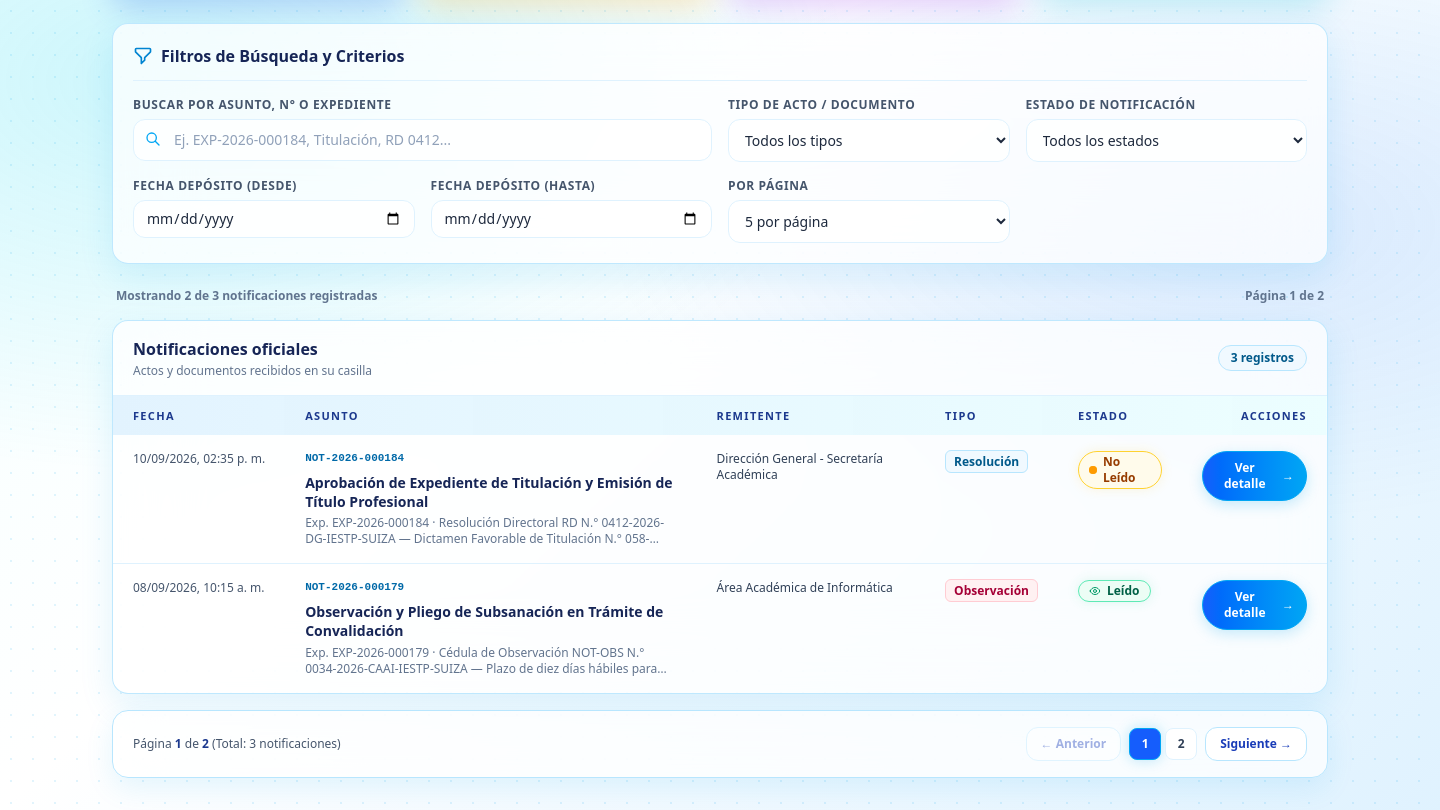
Suite de Pruebas de Casilla Electrónica Ciudadana y Acuse Legal › e) La paginación avanza de página y vuelve a consultar el servicio
(page scrolled)
Expected: the text "Aprobación de Expediente de Titulación" is shown, [305, 473, 673, 511]
Click the button "Siguiente →" at {"x": 1256, "y": 744}, box [1205, 727, 1307, 761]
(page scrolled)
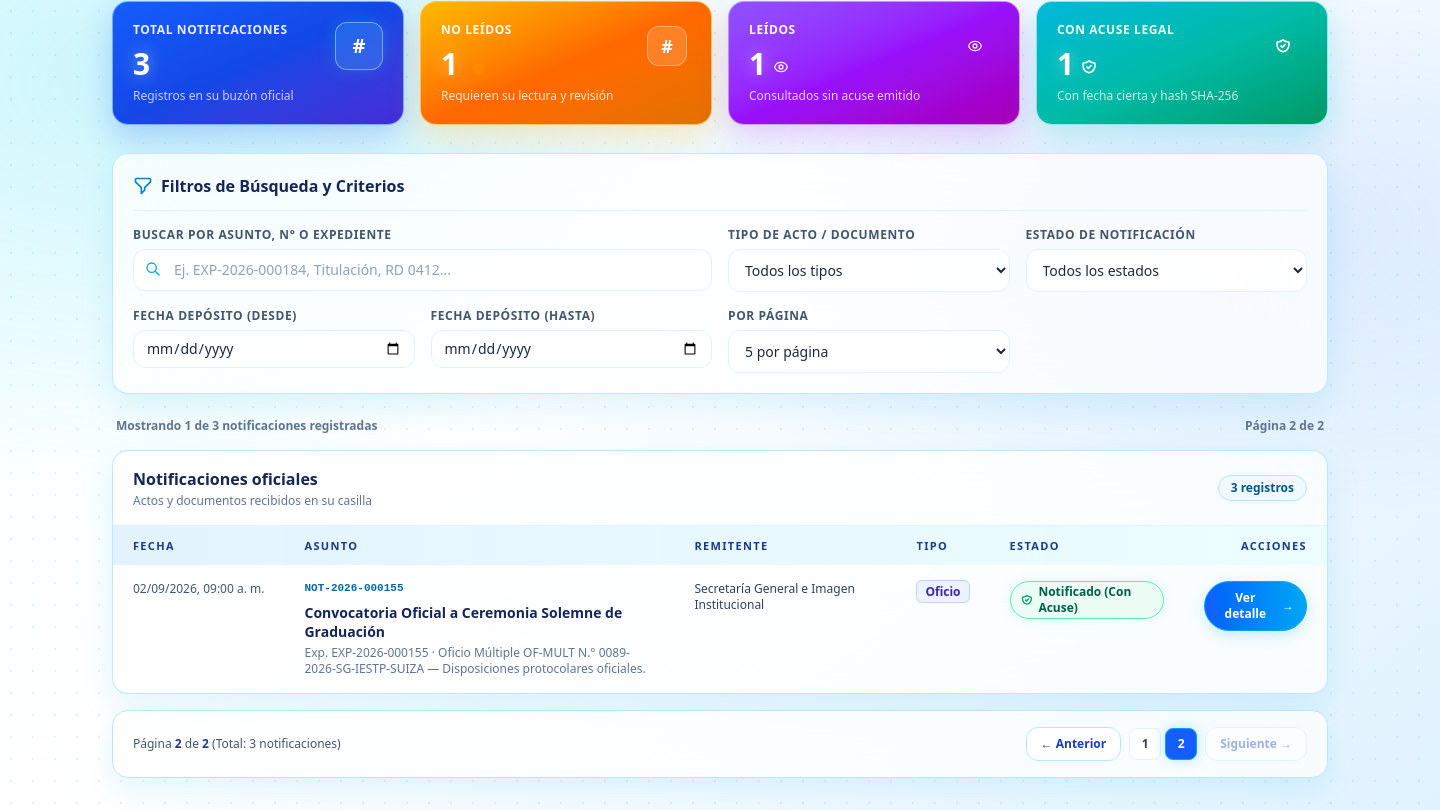
Now the text "Convocatoria Oficial a Ceremonia Solemne de Graduación" is shown, box [304, 603, 654, 641]
